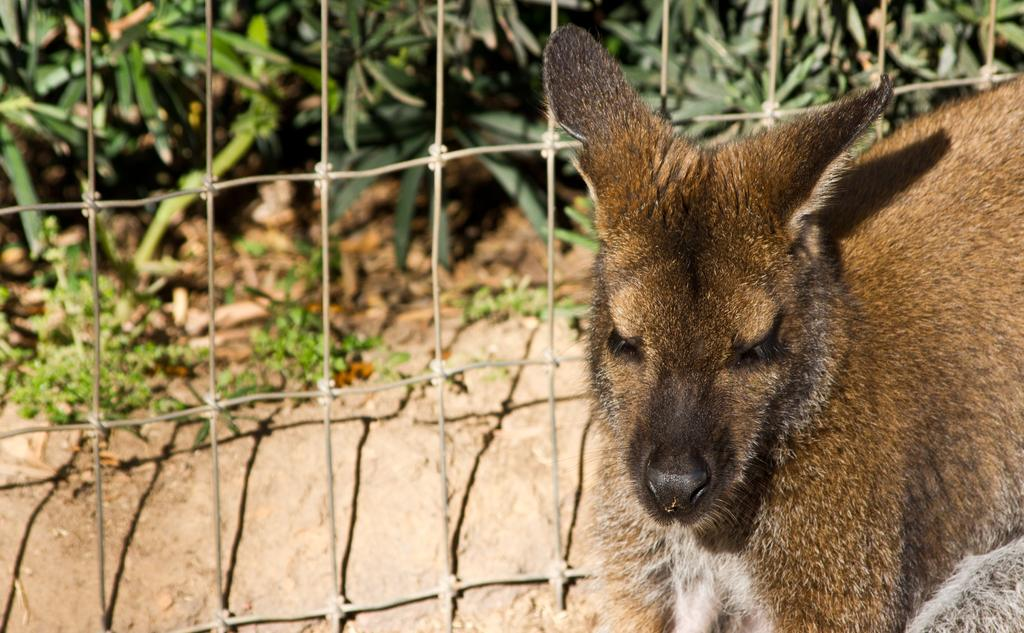kangaroo: (537, 22, 1022, 630)
